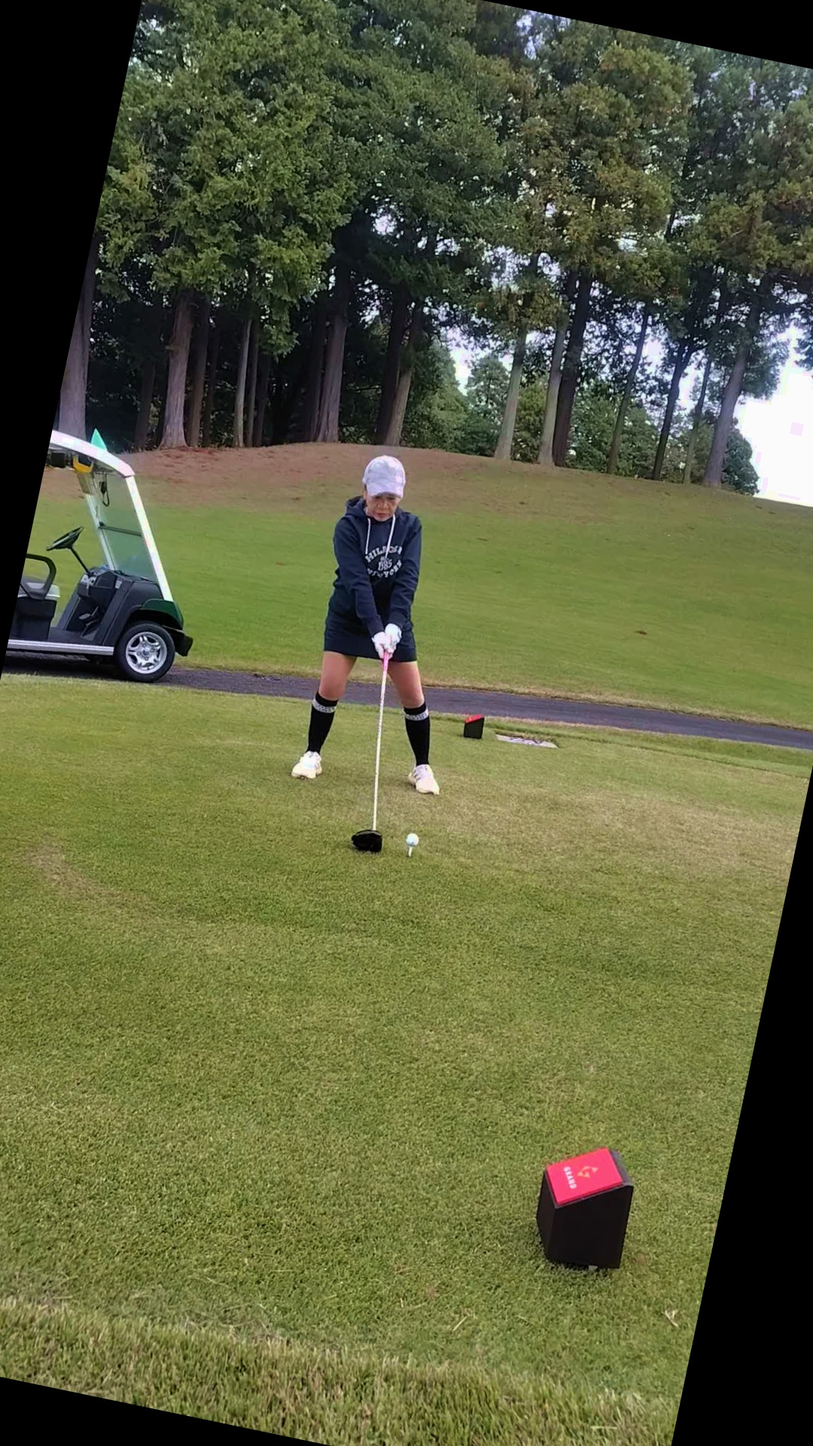clubhead: (235, 781, 475, 932)
